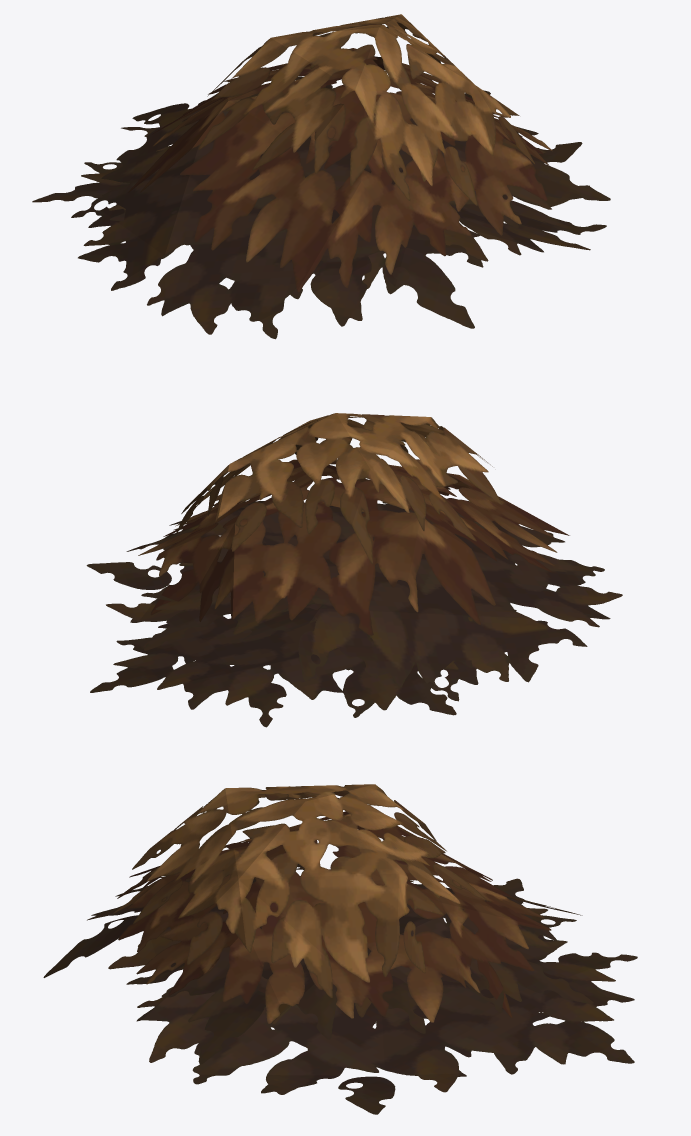
Rendered from bush_dead_05.fbx.
The picture shows the model from 3 angles, top to bottom: view 1: azimuth 30°, elevation 25°; view 2: azimuth 150°, elevation 25°; view 3: azimuth 270°, elevation 25°; orthographic projection. The views are drawn at different scales.
Parts seen in each view (by area): view 1: obj0.249; view 2: obj0.249; view 3: obj0.249.
Boxes of the visible parts, x1,y1,x2,y2 form: obj0.249: (32,14,610,339); obj0.249: (86,413,622,727); obj0.249: (43,784,637,1114).
Bounding box in the file's own units: 5.47 × 1.88 × 5.27.
